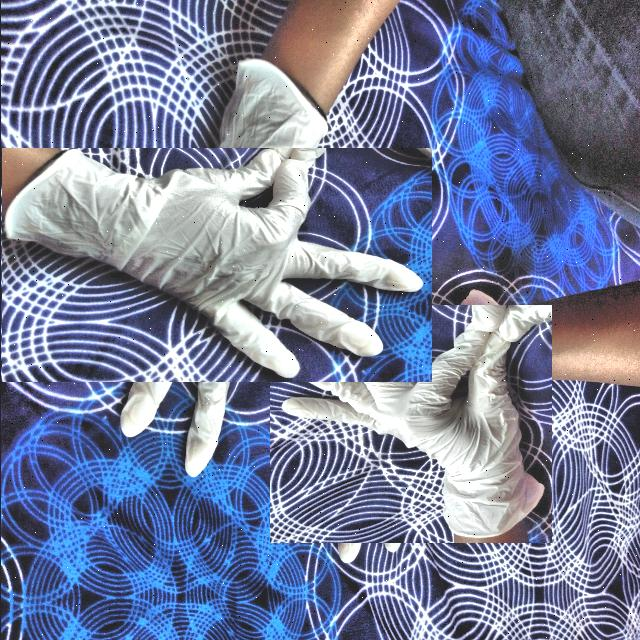gloved: (42, 96, 380, 434), (280, 294, 540, 554)
